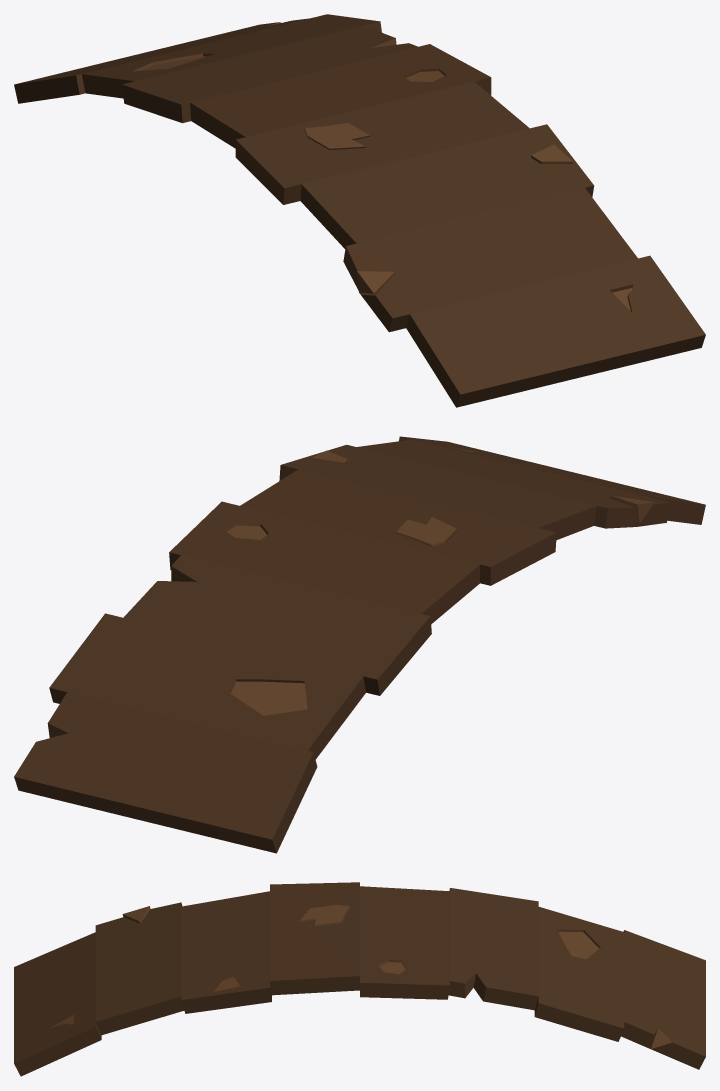
The model's file is Bridge_5_Dark_Brown.fbx.
3 views of the same model, one above another, from view 1: azimuth 30°, elevation 25°; view 2: azimuth 150°, elevation 25°; view 3: azimuth 270°, elevation 25° (orthographic). The views are drawn at different scales.
Parts seen in each view (by area): view 1: Bridge_5_Dark_Brown_Part_1, Bridge_5_Dark_Brown_Part_2, Bridge_5_Dark_Brown_Part_3, Bridge_5_Dark_Brown_Part_4; view 2: Bridge_5_Dark_Brown_Part_4, Bridge_5_Dark_Brown_Part_3, Bridge_5_Dark_Brown_Part_2, Bridge_5_Dark_Brown_Part_1; view 3: Bridge_5_Dark_Brown_Part_2, Bridge_5_Dark_Brown_Part_3, Bridge_5_Dark_Brown_Part_1, Bridge_5_Dark_Brown_Part_4.
Boxes of the visible parts, <box> form: Bridge_5_Dark_Brown_Part_1: <box>343,188,705,407</box>; Bridge_5_Dark_Brown_Part_2: <box>235,81,594,248</box>; Bridge_5_Dark_Brown_Part_3: <box>122,25,491,148</box>; Bridge_5_Dark_Brown_Part_4: <box>14,14,381,103</box>; Bridge_5_Dark_Brown_Part_4: <box>14,613,365,853</box>; Bridge_5_Dark_Brown_Part_3: <box>123,501,479,695</box>; Bridge_5_Dark_Brown_Part_2: <box>240,444,596,585</box>; Bridge_5_Dark_Brown_Part_1: <box>357,436,705,528</box>; Bridge_5_Dark_Brown_Part_2: <box>181,882,359,1013</box>; Bridge_5_Dark_Brown_Part_3: <box>360,886,538,1010</box>; Bridge_5_Dark_Brown_Part_1: <box>14,902,184,1076</box>; Bridge_5_Dark_Brown_Part_4: <box>534,907,705,1069</box>.
Size of the model in its own units: 232 by 98.34 by 651.
